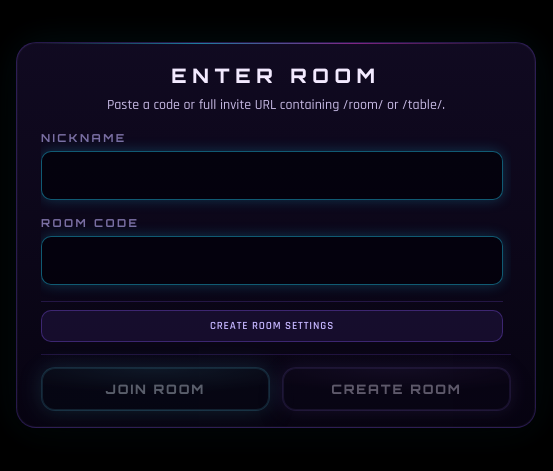
JoinRoomPage backend integration › shows inline error when establishRoomSession fails
This screenshot has width=553, height=471.
Type "neo" into the field labelled "Nickname" at point(272, 175), box left=41, top=151, right=503, bottom=200
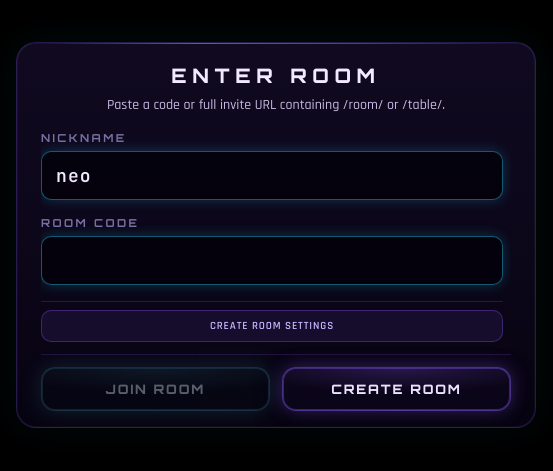
Type "ABC123" into the field labelled "Room code" at point(272, 260), box left=41, top=236, right=503, bottom=285
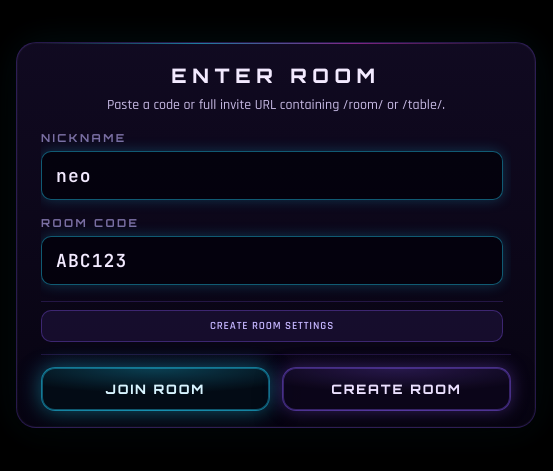
Click the button "Join Room" at point(156, 389), box left=41, top=367, right=270, bottom=411
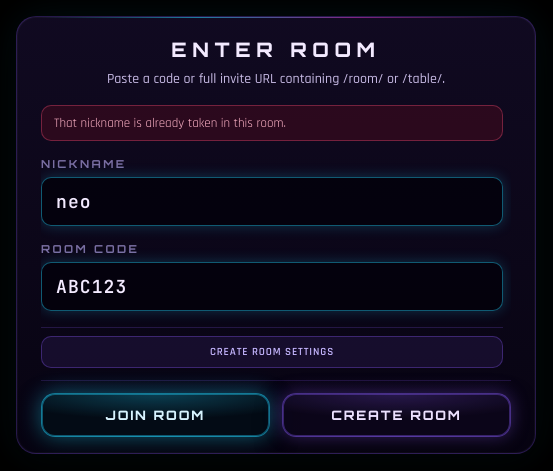
Result: the message with class "jr-panel__error" shows "nickname is already taken" at left=54, top=114, right=286, bottom=130
